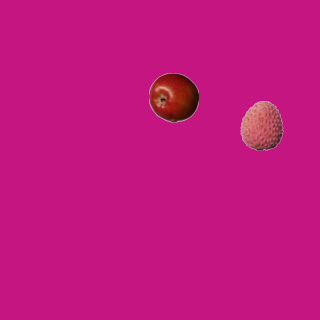Apple Braeburn: (148, 72, 198, 122)
Lychee: (236, 100, 286, 150)
